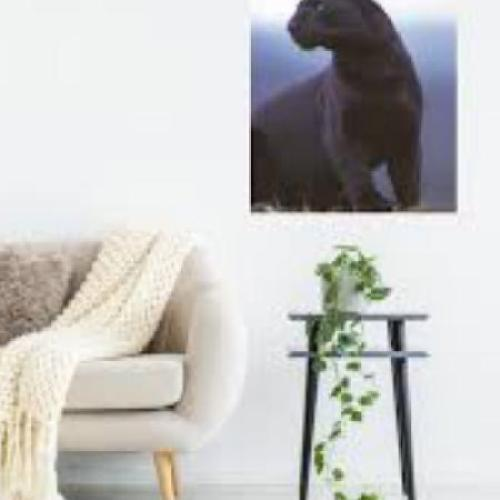panther-endangered: (254, 4, 424, 210)
